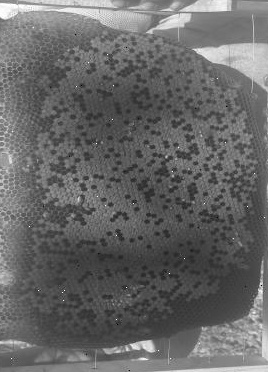cria: (19, 28, 260, 342)
